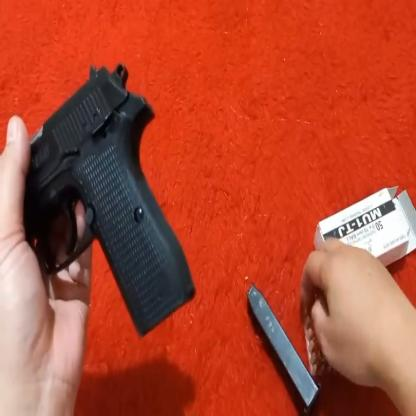handgun: (1, 44, 197, 346)
